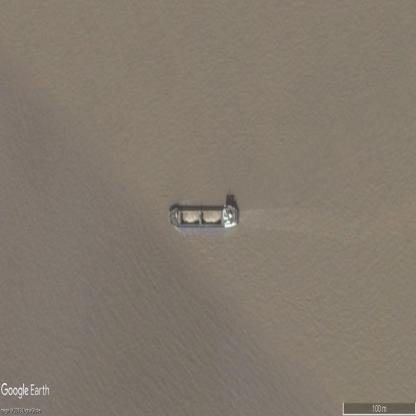ship: (169, 203, 239, 229)
